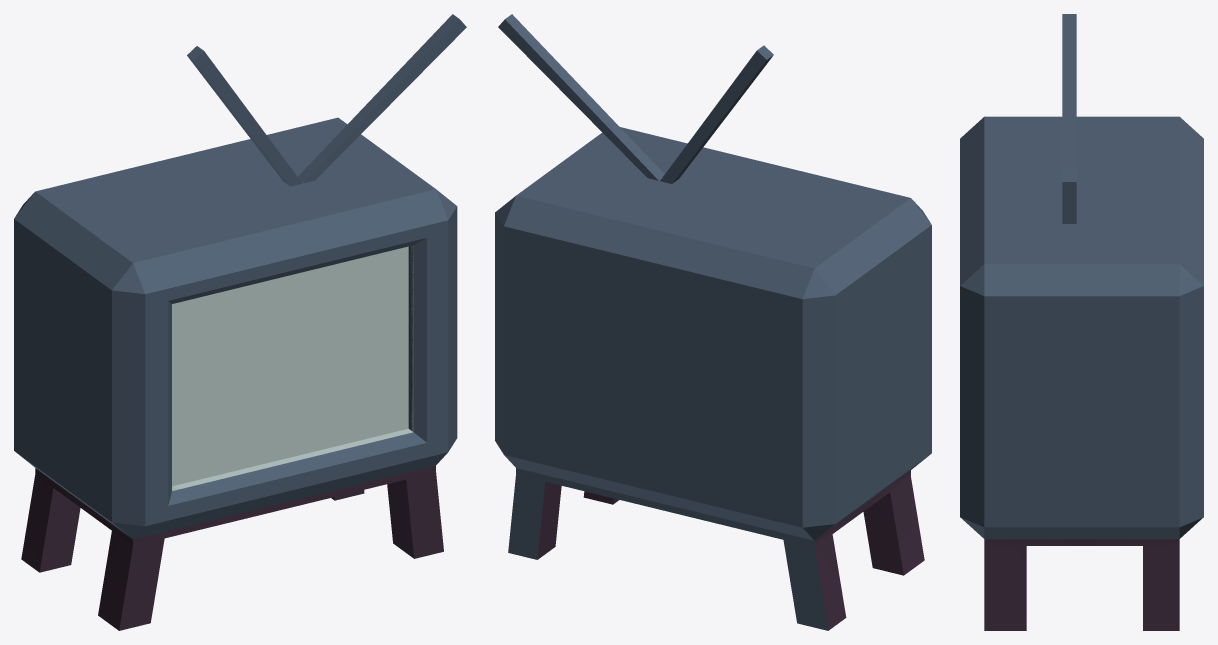
File: PROPS_TV_Whole.fbx
3 renders of one model, left to right at view 1: azimuth 30°, elevation 25°; view 2: azimuth 150°, elevation 25°; view 3: azimuth 270°, elevation 25°, orthographic.
Parts seen in each view (by area): view 1: Television, Screen_ON, Screen_Off; view 2: Television; view 3: Television.
Boxes of the visible parts, x1,y1,x2,y2 form: Television: (14, 14, 466, 630); Screen_ON: (172, 245, 413, 486); Screen_Off: (172, 245, 413, 490); Television: (495, 14, 931, 630); Television: (960, 14, 1203, 630).
Size of the model in its own units: 99.29 by 125 by 53.39.
4 materials, 4 textured.
